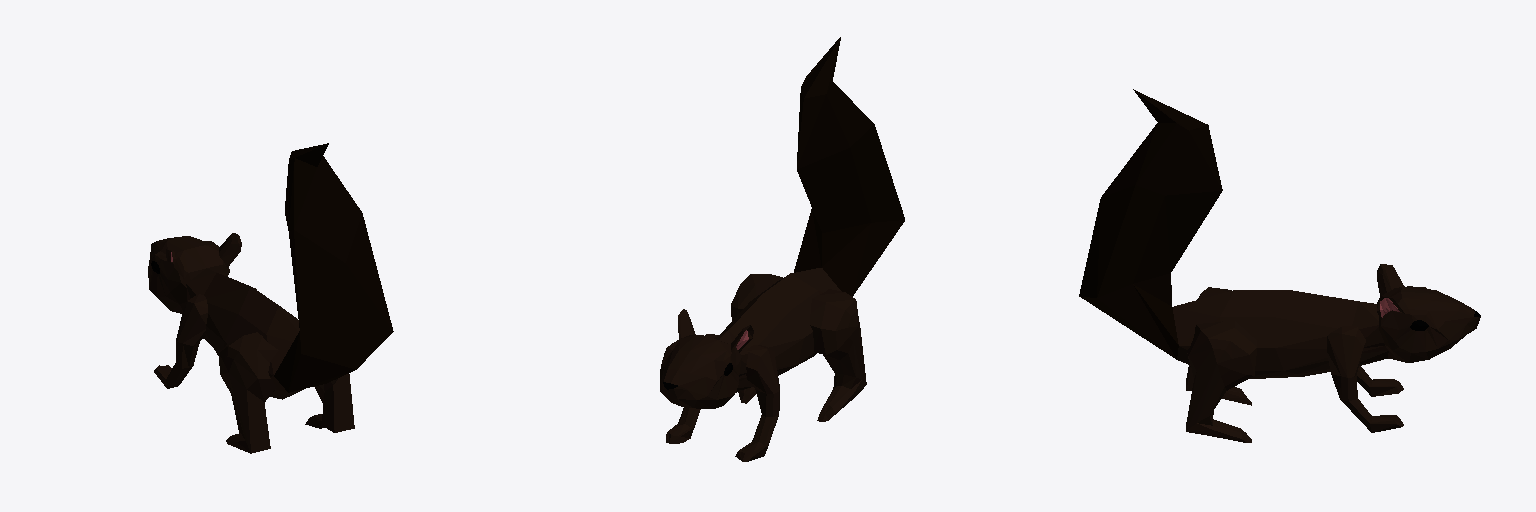
The model's file is squirrel_4.obj.
3 views of the same model, side by side, from view 1: azimuth 30°, elevation 25°; view 2: azimuth 150°, elevation 25°; view 3: azimuth 270°, elevation 25° (orthographic).
Visible parts, largest first — view 1: squirrel_4; view 2: squirrel_4; view 3: squirrel_4.
Part boxes in pixels (bbox=[...]): squirrel_4: bbox=[148, 143, 393, 453]; squirrel_4: bbox=[660, 37, 904, 461]; squirrel_4: bbox=[1079, 89, 1480, 442].
Size of the model in its own units: 17.05 by 46.2 by 50.47.